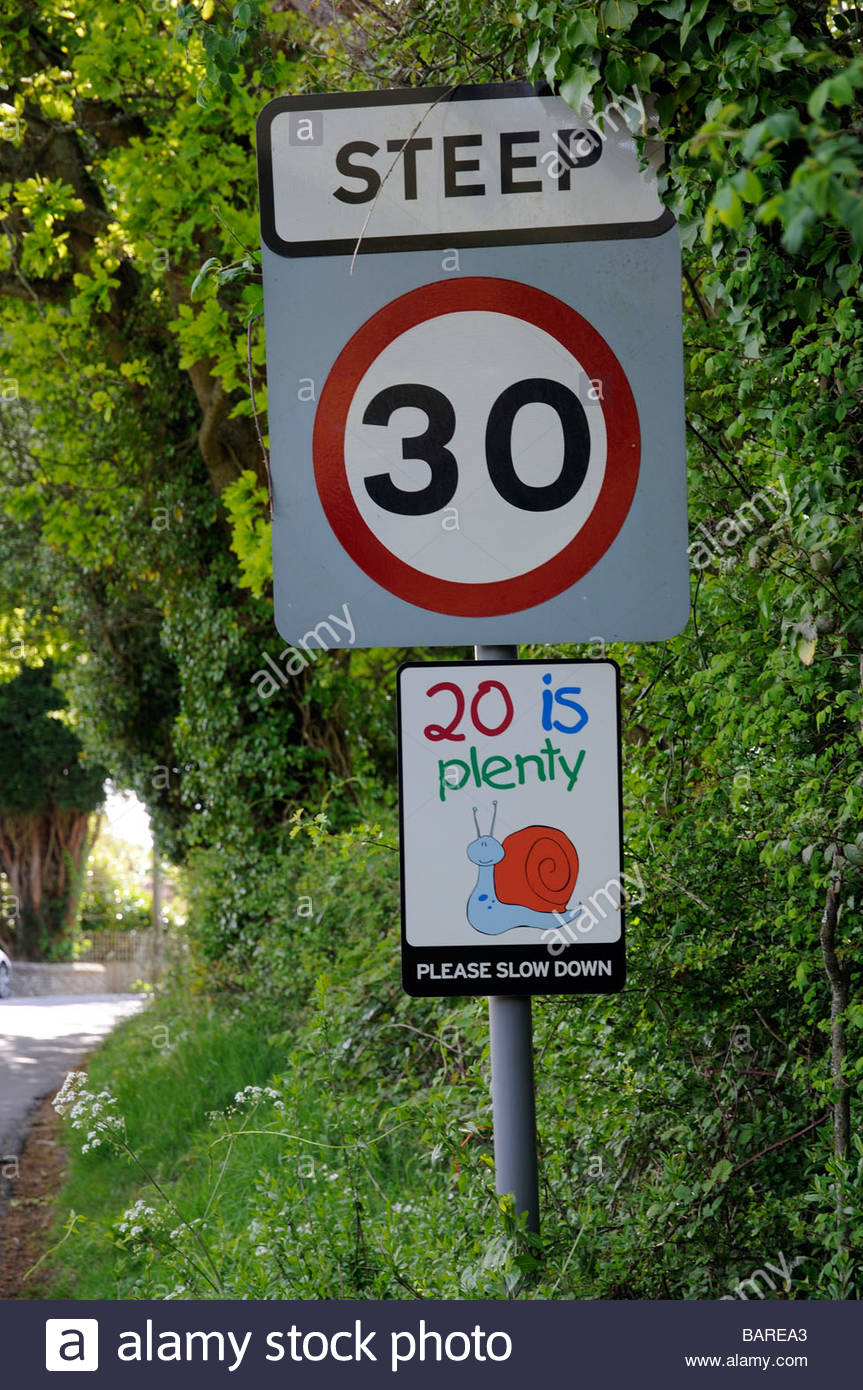Speed_limit_30km: (311, 275, 649, 615)
